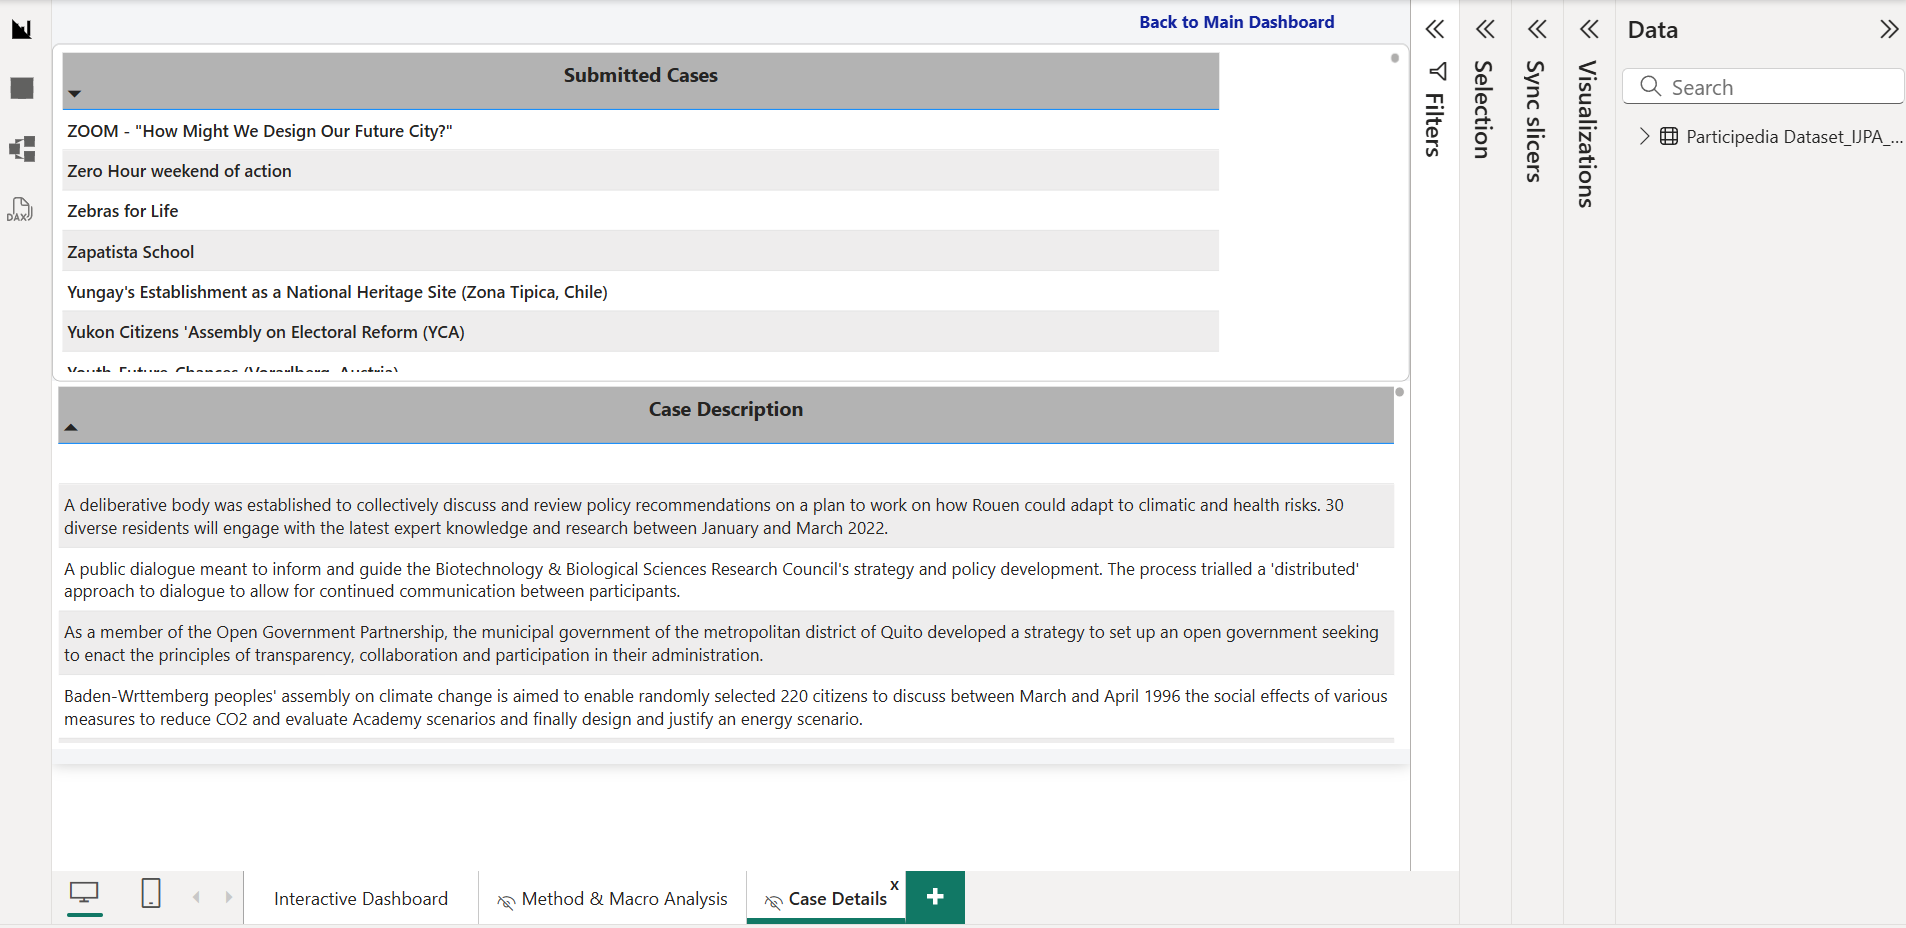

Layout of this report page (visuals, bound fields, positions):
{"tool":"powerbi","page":{"name":"Case Details","canvas":[1280,720],"ordinal":2},"visuals":[{"type":"tableEx","fields":{"Values":["analytics stg_cases.description"]},"box":[0,334.5,1279.4,345.8],"z":0},{"type":"tableEx","fields":{"Values":["analytics stg_cases.title"]},"box":[0,39.7,1279.4,294.8],"z":1000},{"type":"actionButton","box":[954.5,0,325.5,40.5],"z":3000}]}

Visuals, with their boxes on the page's 1280x720 design canvas (x1, y1, x2, y2). These are canvas units, not pixel positions in the 1906x928 screenshot, which may show the page scaled, cropped or inside an application window:
tableEx - analytics stg_cases.description: (0,334,1279,680)
tableEx - analytics stg_cases.title: (0,40,1279,334)
actionButton: (954,0,1280,40)
